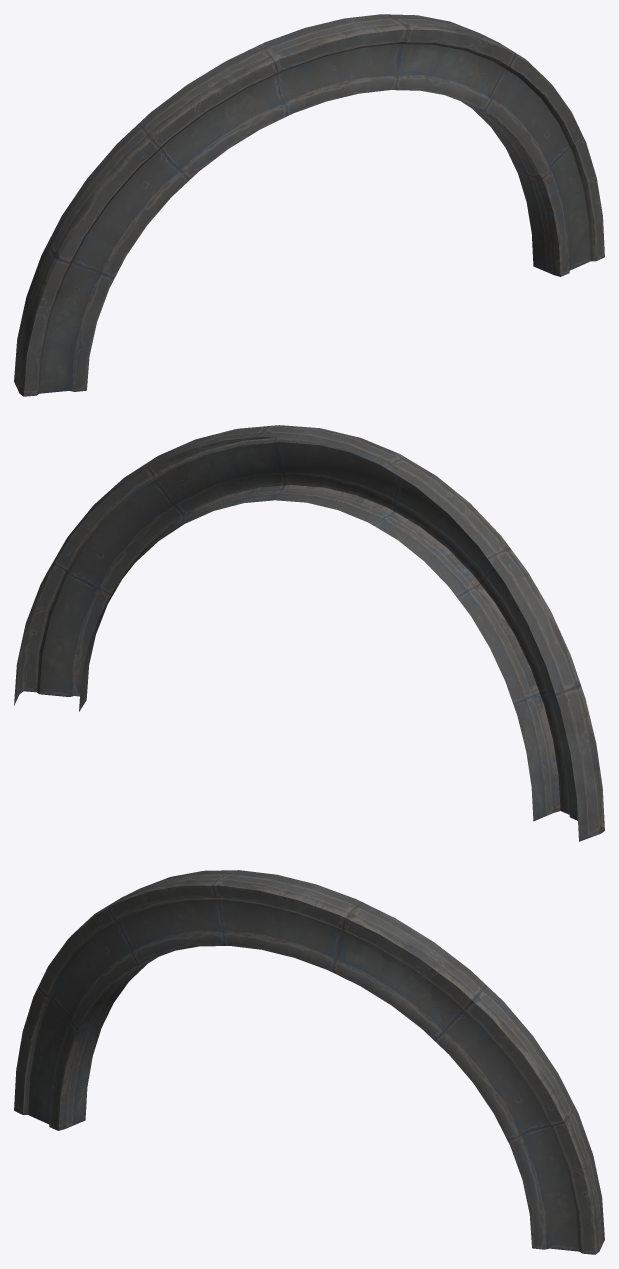
The model's file is wall_ring.fbx.
3 views of the same model, one above another, from view 1: azimuth 30°, elevation 25°; view 2: azimuth 150°, elevation 25°; view 3: azimuth 330°, elevation 25° (orthographic).
Parts seen in each view (by area): view 1: Object061; view 2: Object061; view 3: Object061.
Part boxes in pixels (box(x1,y1,x2,y2)): Object061: box(14, 14, 604, 396); Object061: box(14, 425, 604, 841); Object061: box(14, 870, 604, 1254).
Size of the model in its own units: 848 by 434 by 114.
